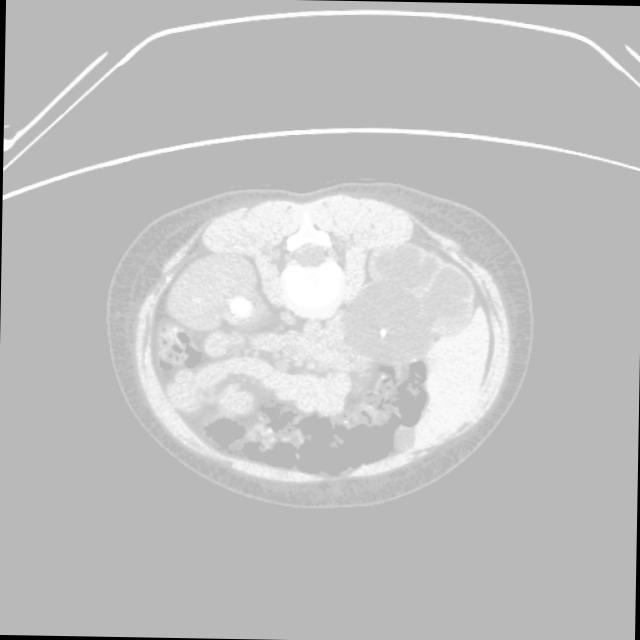STONE: (173, 341, 422, 510)
